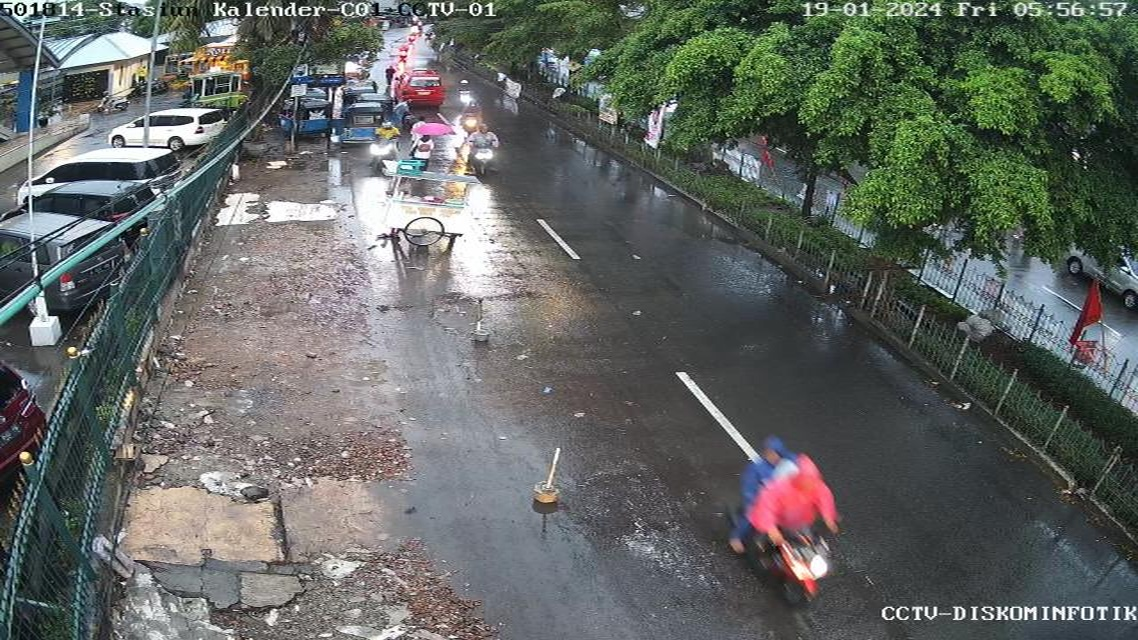Gerobak: (381, 162, 471, 262)
